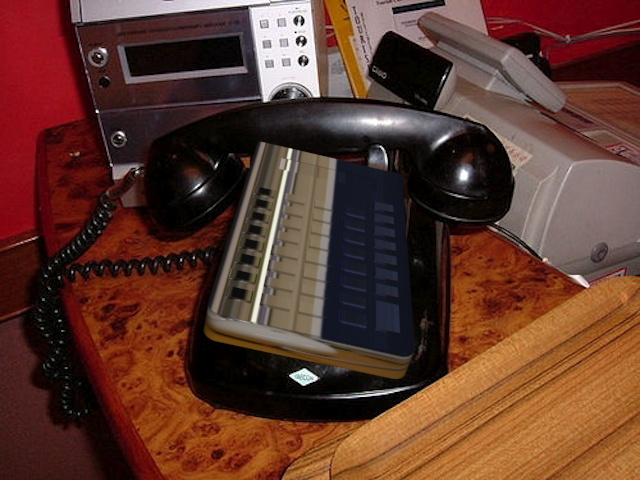calculator: (192, 129, 417, 385)
